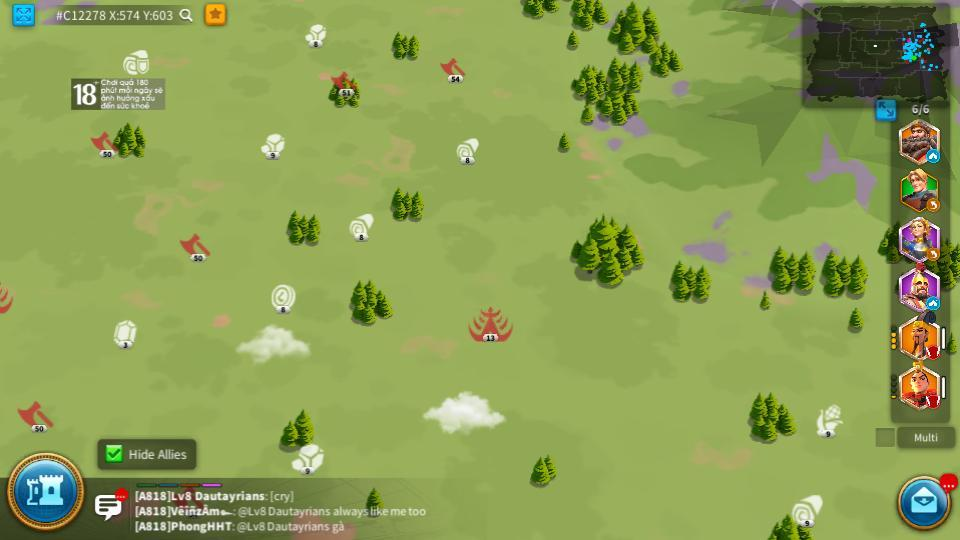gem-z-out: (111, 320, 139, 348)
march_attacking: (925, 395, 941, 407), (924, 350, 938, 360)
march_idle: (927, 152, 939, 163), (925, 297, 938, 307)
march_returning: (927, 248, 941, 261), (927, 201, 941, 212)
